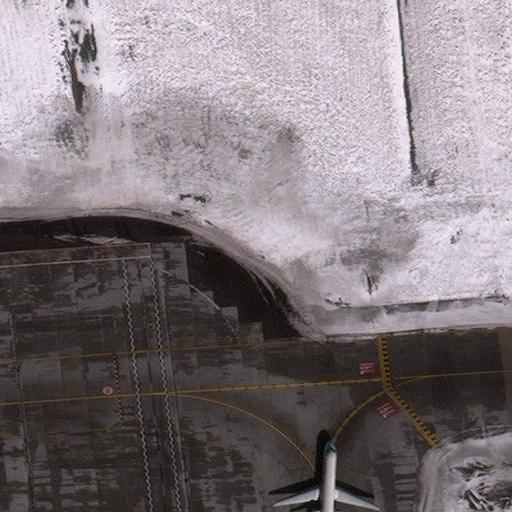Medium Civil Transport: (275, 439, 381, 512)
